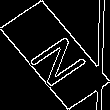N_NE: (19, 24, 91, 86)
